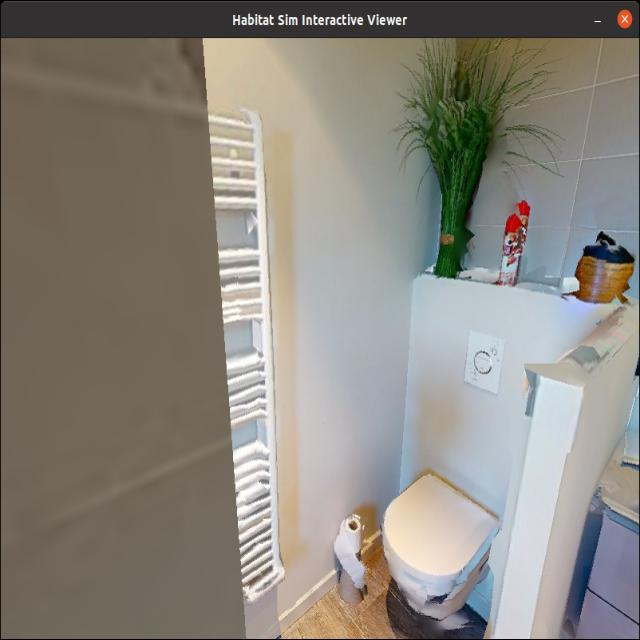toilet: (336, 409, 509, 640)
